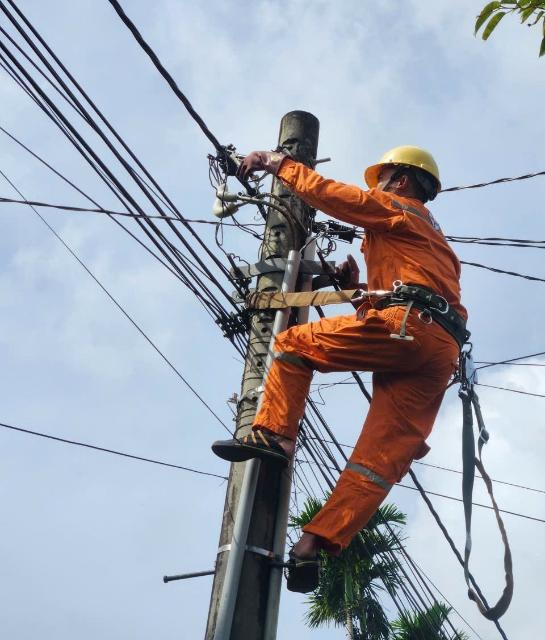gloves: (327, 246, 386, 309), (230, 141, 294, 187)
harness: (392, 272, 474, 347)
helmet: (361, 138, 449, 198)
shoes: (195, 413, 299, 472), (282, 520, 335, 595)
